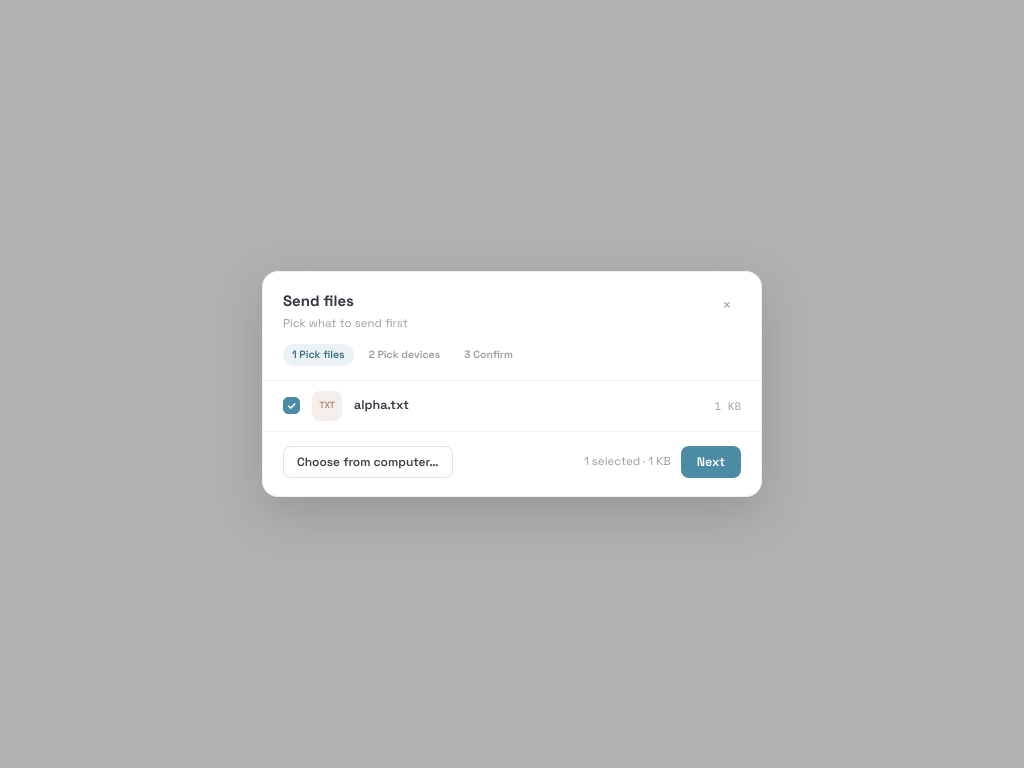
it: SendModal · step transitions › advances files → device when no device is preset
The image size is (1024, 768).
Step 1. Click the button "Next" → click(711, 462), box [681,446,741,478]
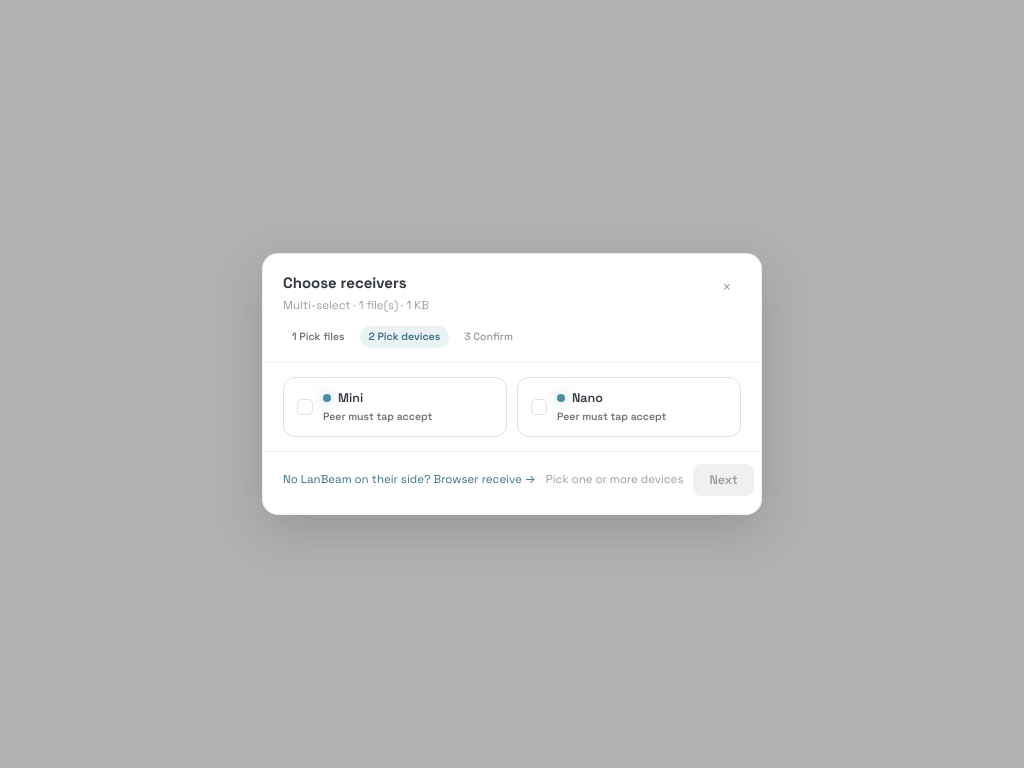
Result: the text "Mini" is shown at [338,388,363,407]
Result: the text "Nano" is shown at [572,388,603,407]
